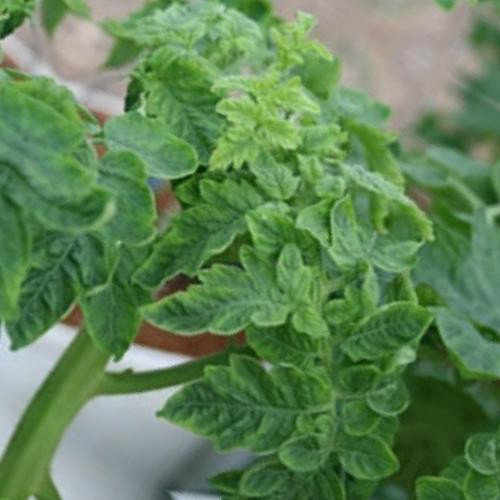Tomato leaf mosaic virus: (133, 217, 325, 398), (148, 314, 335, 490), (106, 27, 266, 174), (131, 152, 270, 316), (0, 216, 110, 368), (332, 273, 441, 388), (91, 98, 209, 201), (227, 187, 330, 276), (303, 187, 394, 279), (321, 417, 402, 495)
